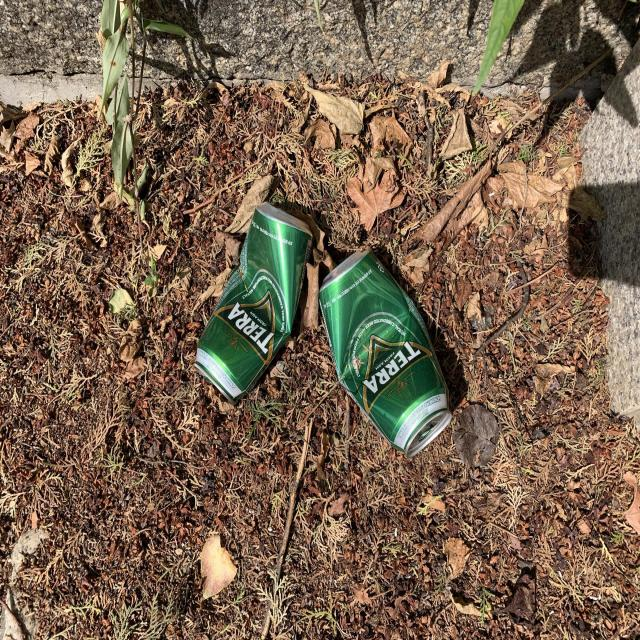can: (319, 250, 452, 458), (194, 202, 313, 401)
